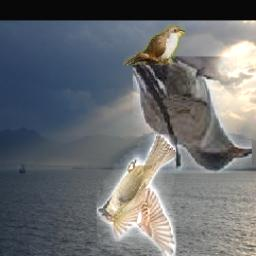Cuckoo: (133, 56, 252, 173), (123, 24, 185, 65)
Sparrow: (98, 134, 177, 256)
